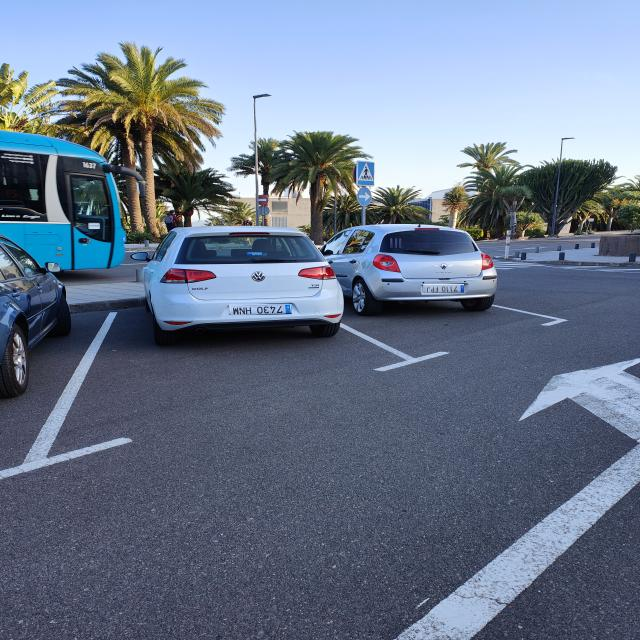License-Plate: (228, 303, 292, 315), (422, 284, 464, 293)
